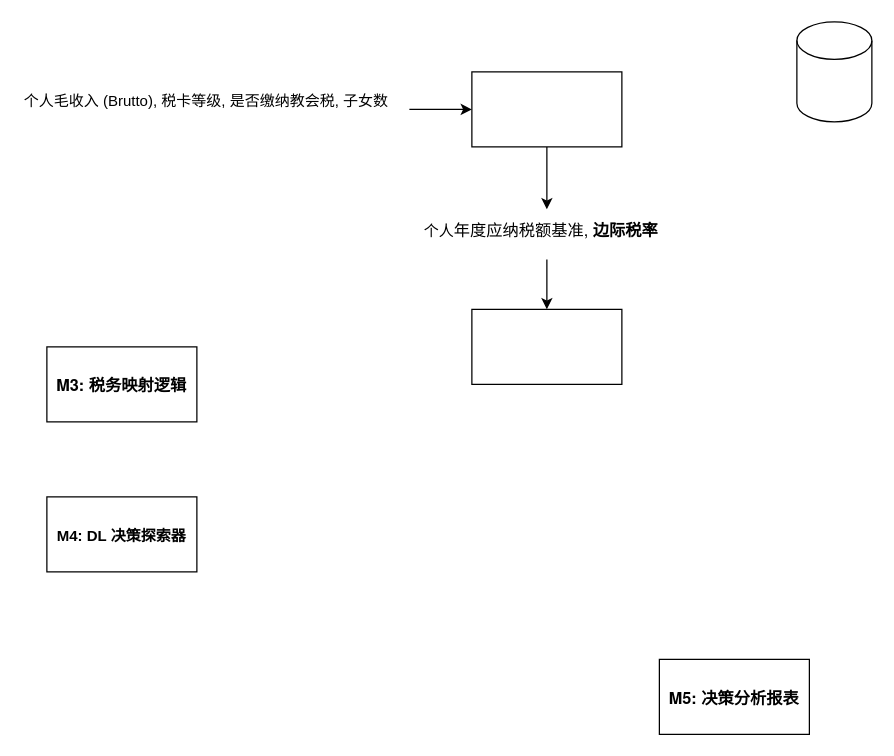
Some shapes in this 894 by 756 pixel diagram are drawn without their labels. The box of each missing label's shape, as (x1, y1, x2, y2) in pixels:
M1: 个人税务画像: (471, 71, 622, 147)
M2: 资产模拟引擎: (471, 308, 622, 384)
